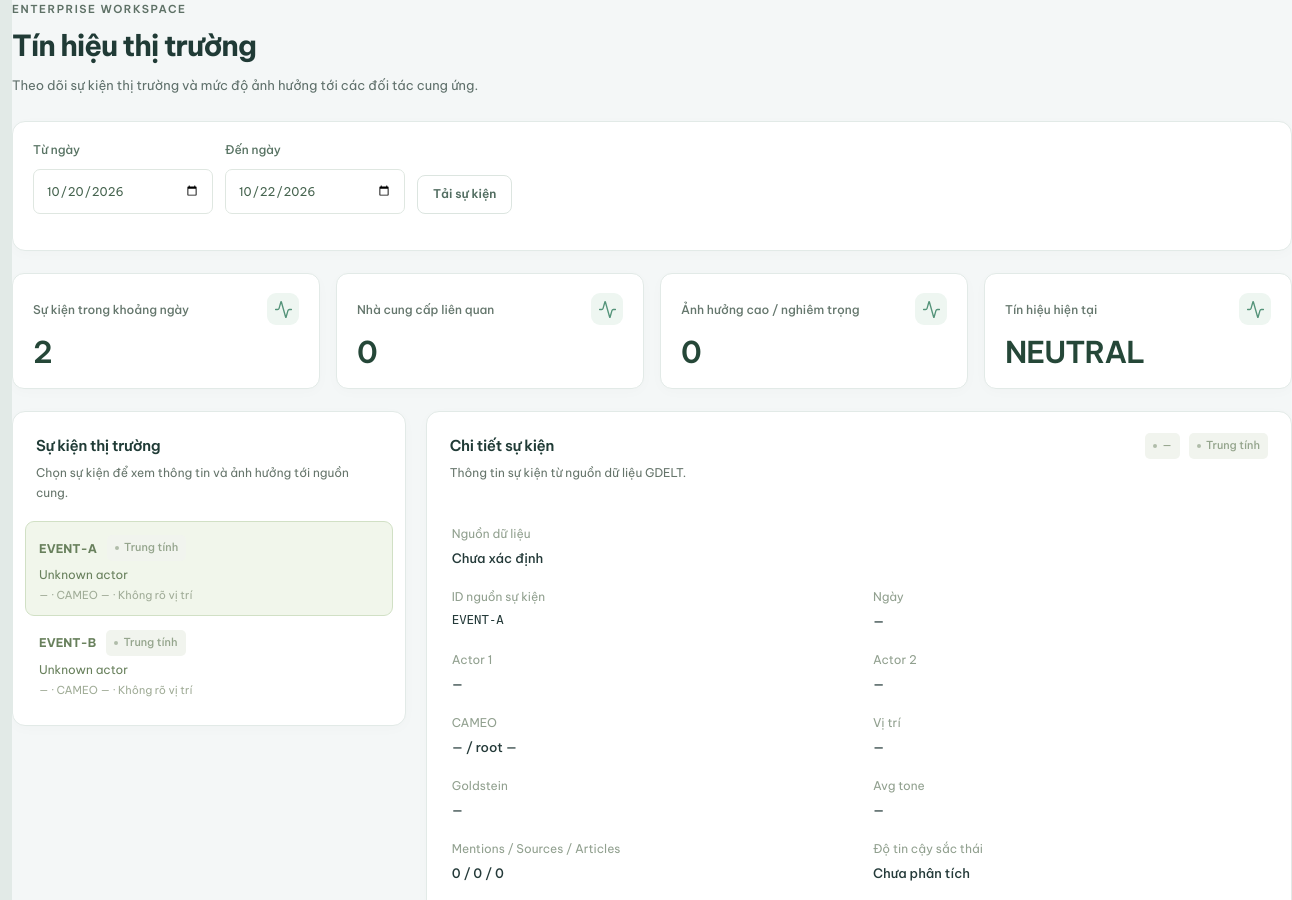
keeps exposure results keyed to the selected event and shows errors separately
Click the button "EVENT-B".
click(68, 643)  # box [25,616,393,710]
(page scrolled)
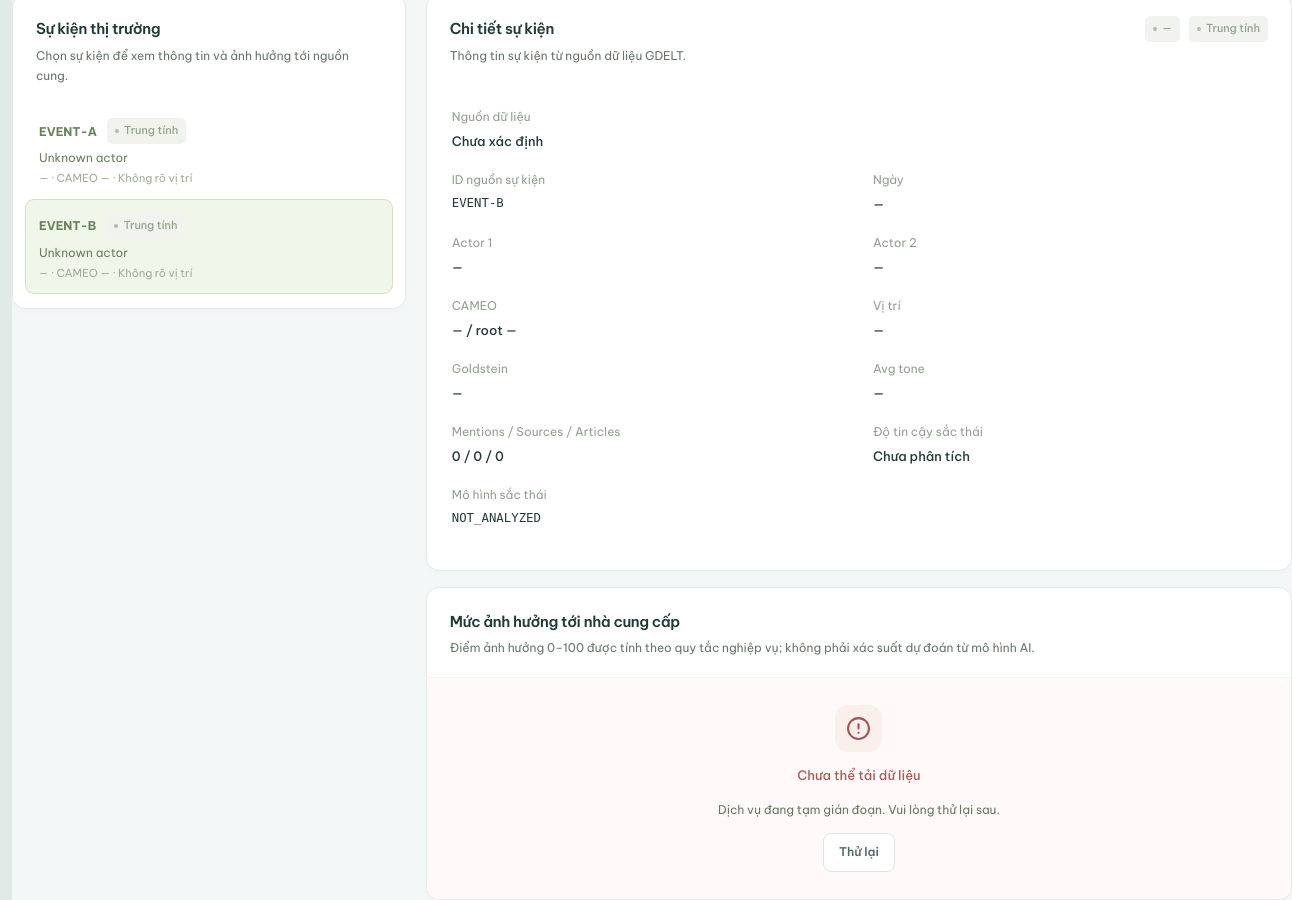
Expected: the message shows "tạm gián đoạn", [718,802,1000,817]
